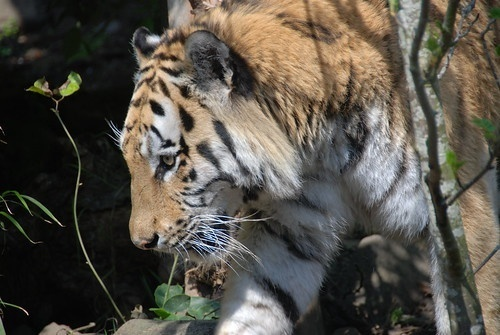tigre: (115, 1, 500, 335)
